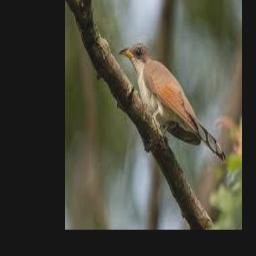Cuckoo: (118, 43, 225, 161)
